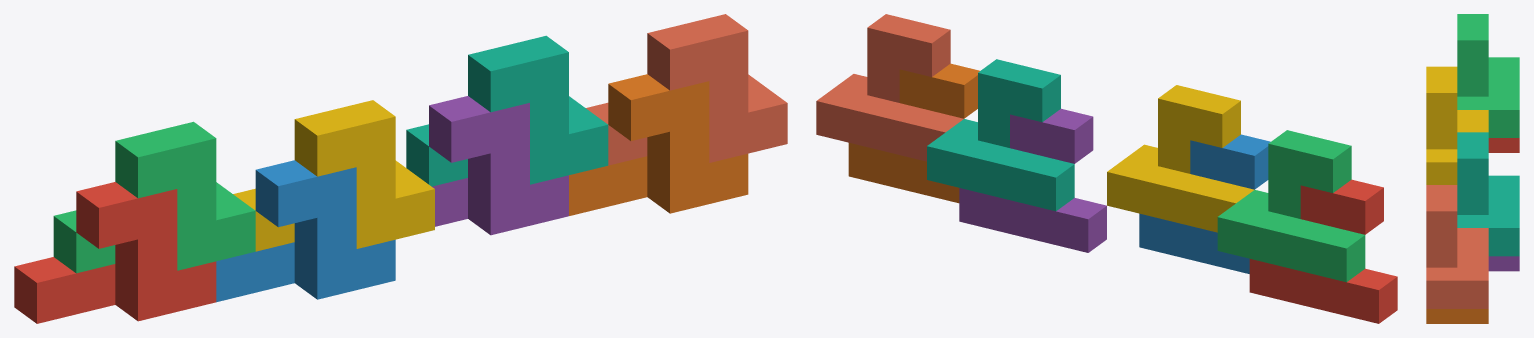
Rendered from tiling.obj.
3 views of the same model, side by side, from view 1: azimuth 30°, elevation 25°; view 2: azimuth 150°, elevation 25°; view 3: azimuth 270°, elevation 25° (orthographic). The views are drawn at different scales.
Visible parts, largest first — view 1: copy_1_domain_1, copy_1_domain_6, copy_1_domain_2, copy_1_domain_3, copy_1_domain_7, copy_1_domain_4, copy_1_domain_8, copy_1_domain_5; view 2: copy_1_domain_3, copy_1_domain_7, copy_1_domain_8, copy_1_domain_4, copy_1_domain_1, copy_1_domain_5, copy_1_domain_6, copy_1_domain_2; view 3: copy_1_domain_8, copy_1_domain_7, copy_1_domain_3, copy_1_domain_4, copy_1_domain_6, copy_1_domain_5, copy_1_domain_1.
Boxes of the visible parts, x1=… form: copy_1_domain_1: x1=14, y1=182, x2=216, y2=323; copy_1_domain_6: x1=569, y1=74, x2=748, y2=215; copy_1_domain_2: x1=216, y1=160, x2=395, y2=302; copy_1_domain_3: x1=53, y1=121, x2=255, y2=273; copy_1_domain_7: x1=406, y1=35, x2=608, y2=186; copy_1_domain_4: x1=233, y1=100, x2=434, y2=251; copy_1_domain_8: x1=586, y1=14, x2=787, y2=165; copy_1_domain_5: x1=429, y1=96, x2=568, y2=235; copy_1_domain_3: x1=1217, y1=130, x2=1365, y2=282; copy_1_domain_7: x1=927, y1=59, x2=1074, y2=211; copy_1_domain_8: x1=816, y1=14, x2=963, y2=161; copy_1_domain_4: x1=1107, y1=85, x2=1254, y2=232; copy_1_domain_1: x1=1249, y1=179, x2=1397, y2=323; copy_1_domain_5: x1=959, y1=108, x2=1106, y2=252; copy_1_domain_6: x1=848, y1=63, x2=979, y2=203; copy_1_domain_2: x1=1139, y1=134, x2=1270, y2=273; copy_1_domain_8: x1=1426, y1=185, x2=1488, y2=308; copy_1_domain_7: x1=1457, y1=132, x2=1519, y2=256; copy_1_domain_3: x1=1457, y1=14, x2=1519, y2=137; copy_1_domain_4: x1=1426, y1=66, x2=1488, y2=184; copy_1_domain_6: x1=1426, y1=309, x2=1488, y2=323; copy_1_domain_5: x1=1488, y1=256, x2=1519, y2=271; copy_1_domain_1: x1=1488, y1=138, x2=1519, y2=152.
Size of the model in its own units: 18 by 4 by 3.
